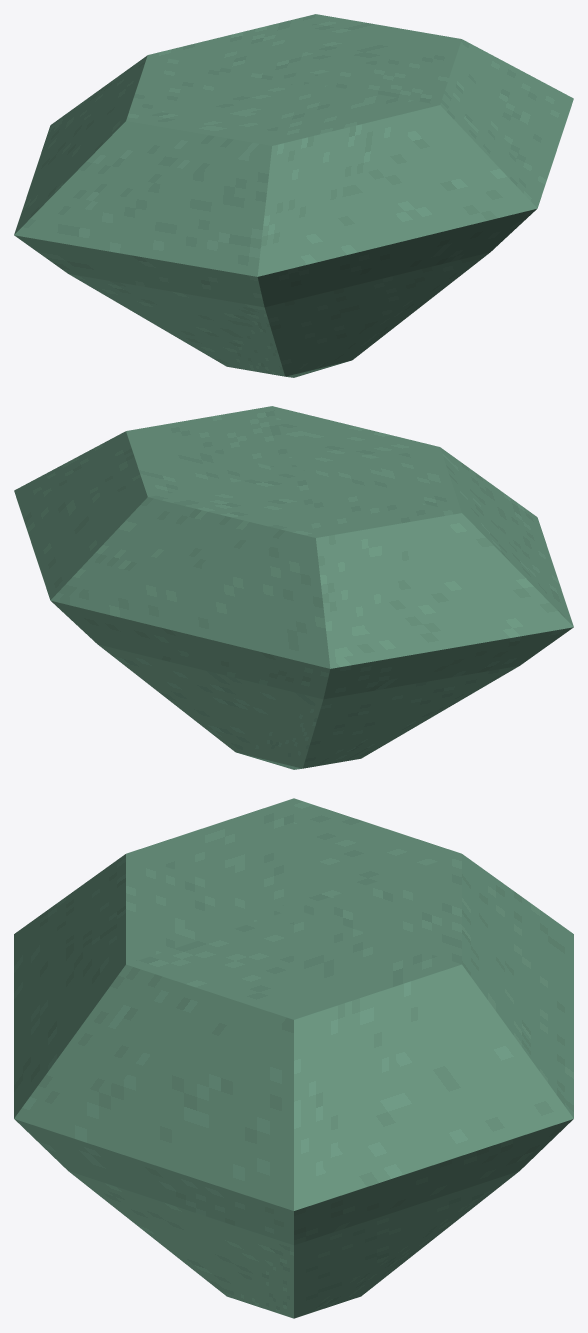
The model's file is emerald.glb.
3 views of the same model, one above another, from view 1: azimuth 30°, elevation 25°; view 2: azimuth 150°, elevation 25°; view 3: azimuth 270°, elevation 25° (orthographic). The views are drawn at different scales.
Visible parts, largest first — view 1: block_faceted gemstone; view 2: block_faceted gemstone; view 3: block_faceted gemstone.
Part boxes in pixels (x1,y1,x2,y2): block_faceted gemstone: [14, 14, 573, 377]; block_faceted gemstone: [14, 406, 573, 769]; block_faceted gemstone: [14, 798, 573, 1318].
Bounding box in the file's own units: 0.0345 × 0.0175 × 0.0221.
Materials: 1 (1 with a texture image).
